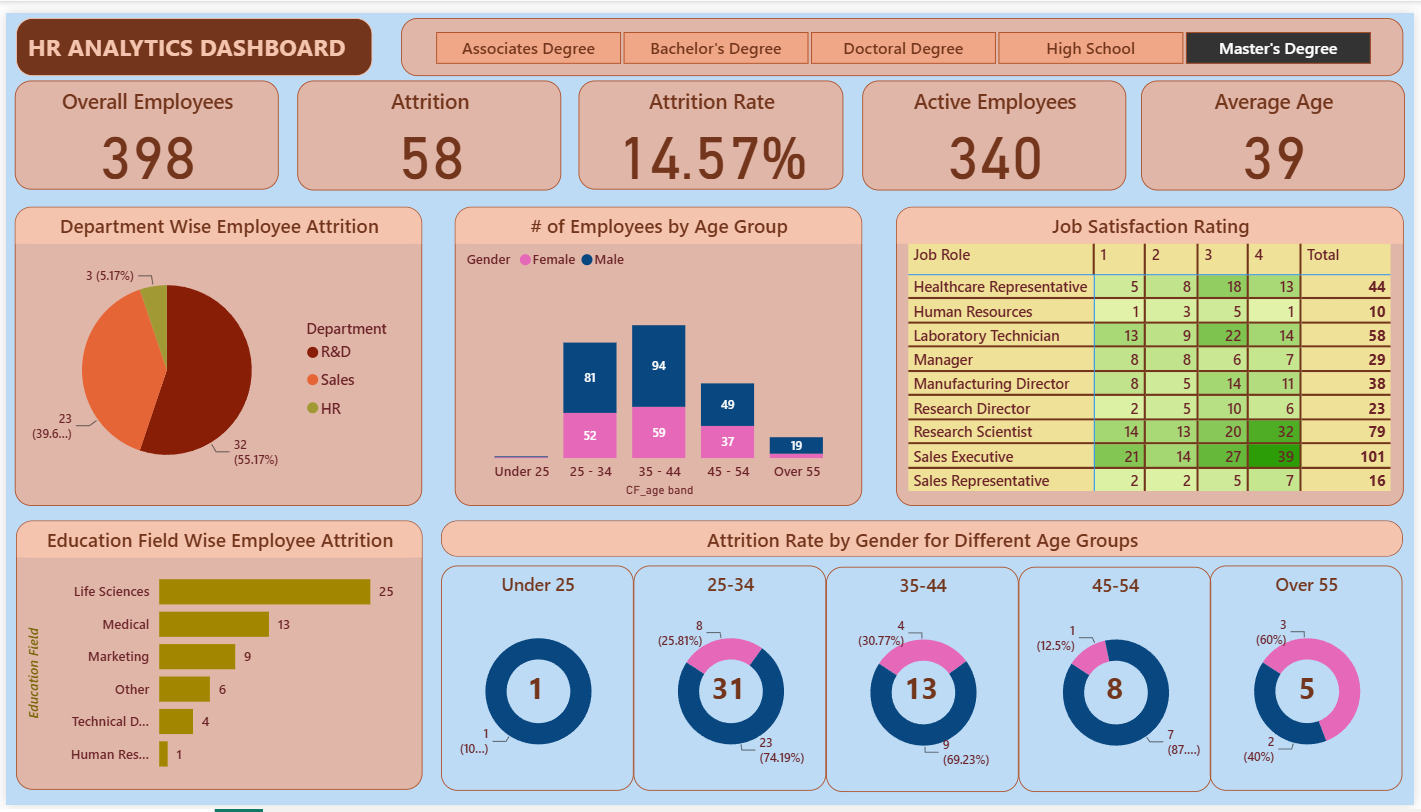

Layout of this report page (visuals, bound fields, positions):
{"tool":"powerbi","page":{"name":"HR Analytics Dashboard","canvas":[1280,720],"ordinal":0},"visuals":[{"type":"card","title":"Overall Employees","fields":{"Values":["Sum(HR data.Employee Count)"]},"box":[8.3,61.5,239.9,99.1],"z":0},{"type":"card","title":"Attrition ","fields":{"Values":["Sum(HR data.Attrition Count)"]},"box":[264.9,61.5,239.9,100.1],"z":1000},{"type":"card","title":"Attrition Rate","fields":{"Values":["HR data.Attrition Rate"]},"box":[520.4,61.5,240.9,99.1],"z":2000},{"type":"card","title":"Active Employees","fields":{"Values":["HR data.Active employees"]},"box":[778,61.5,239.9,100.1],"z":3000},{"type":"card","title":"Average Age","fields":{"Values":["Avg(HR data.Age)"]},"box":[1031.4,61.5,239.9,100.1],"z":4000},{"type":"pieChart","title":"Department Wise Employee Attrition","fields":{"Category":["HR data.Department"],"Y":["Sum(HR data.Attrition Count)"]},"box":[8.4,175.8,370.2,272.1],"z":5000},{"type":"columnChart","title":"# of Employees by Age Group","fields":{"Category":["HR data.CF_age band"],"Y":["Sum(HR data.Employee Count)"],"Series":["HR data.Gender"]},"box":[407.6,175.8,370.2,272.1],"z":6000},{"type":"pivotTable","title":"Job Satisfaction Rating","fields":{"Rows":["HR data.Job Role"],"Columns":["HR data.Job Satisfaction"],"Values":["Sum(HR data.Employee Count)"]},"box":[809.6,175.8,461.8,272.1],"z":7000},{"type":"barChart","title":"Education Field Wise Employee Attrition","fields":{"Category":["HR data.Education Field"],"Y":["Sum(HR data.Attrition Count)"]},"box":[9.3,461.8,369.3,244.9],"z":8000},{"type":"donutChart","title":"Under 25","fields":{"Category":["HR data.Gender"],"Y":["Sum(HR data.Attrition Count)"],"Series":["HR data.CF_age band"]},"box":[395.5,502,174.8,204.7],"z":9000},{"type":"textbox","title":"Attrition Rate by Gender for Different Age Groups","box":[395.5,461.8,874.1,32.7],"z":10000},{"type":"donutChart","title":"25-34","fields":{"Category":["HR data.Gender"],"Y":["Sum(HR data.Attrition Count)"],"Series":["HR data.CF_age band"]},"box":[570.3,502,174.8,204.7],"z":11000},{"type":"donutChart","title":"35-44","fields":{"Category":["HR data.Gender"],"Y":["Sum(HR data.Attrition Count)"],"Series":["HR data.CF_age band"]},"box":[745.1,503,174.8,204.7],"z":12000},{"type":"donutChart","title":"45-54","fields":{"Category":["HR data.Gender"],"Y":["Sum(HR data.Attrition Count)"],"Series":["HR data.CF_age band"]},"box":[919.9,503,174.8,204.7],"z":13000},{"type":"donutChart","title":"Over 55","fields":{"Category":["HR data.Gender"],"Y":["Sum(HR data.Attrition Count)"],"Series":["HR data.CF_age band"]},"box":[1094.8,502,174.8,204.7],"z":14000},{"type":"card","fields":{"Values":["Sum(HR data.Attrition Count)"]},"box":[459,597.4,45.8,33.7],"z":15000},{"type":"card","fields":{"Values":["Sum(HR data.Attrition Count)"]},"box":[628.8,597.5,57.4,33.4],"z":16000},{"type":"card","fields":{"Values":["Sum(HR data.Attrition Count)"]},"box":[806.1,597.5,53.2,33.4],"z":17000},{"type":"card","fields":{"Values":["Sum(HR data.Attrition Count)"]},"box":[985.4,597.4,45.8,33.7],"z":18000},{"type":"card","fields":{"Values":["Sum(HR data.Attrition Count)"]},"box":[1160.2,597.4,45.8,33.7],"z":19000},{"type":"textbox","box":[9.4,4.2,324.3,53.2],"z":20000},{"type":"slicer","fields":{"Values":["HR data.Education"]},"box":[358.7,4.2,911.4,53],"z":21000}]}

Visuals, with their boxes in screenshot pixels (x1, y1, x2, y2), scaled from the page's 1280x720 canvas onto the 1421x812 screenshot:
"Overall Employees" card: left=9, top=69, right=276, bottom=181
"Attrition " card: left=294, top=69, right=560, bottom=182
"Attrition Rate" card: left=578, top=69, right=845, bottom=181
"Active Employees" card: left=864, top=69, right=1130, bottom=182
"Average Age" card: left=1145, top=69, right=1411, bottom=182
"Department Wise Employee Attrition" pieChart: left=9, top=198, right=420, bottom=505
"# of Employees by Age Group" columnChart: left=452, top=198, right=863, bottom=505
"Job Satisfaction Rating" pivotTable: left=899, top=198, right=1411, bottom=505
"Education Field Wise Employee Attrition" barChart: left=10, top=521, right=420, bottom=797
"Under 25" donutChart: left=439, top=566, right=633, bottom=797
"Attrition Rate by Gender for Different Age Groups" textbox: left=439, top=521, right=1409, bottom=558
"25-34" donutChart: left=633, top=566, right=827, bottom=797
"35-44" donutChart: left=827, top=567, right=1021, bottom=798
"45-54" donutChart: left=1021, top=567, right=1215, bottom=798
"Over 55" donutChart: left=1215, top=566, right=1409, bottom=797
card - Sum(HR data.Attrition Count): left=510, top=674, right=560, bottom=712
card - Sum(HR data.Attrition Count): left=698, top=674, right=762, bottom=712
card - Sum(HR data.Attrition Count): left=895, top=674, right=954, bottom=712
card - Sum(HR data.Attrition Count): left=1094, top=674, right=1145, bottom=712
card - Sum(HR data.Attrition Count): left=1288, top=674, right=1339, bottom=712
textbox: left=10, top=5, right=370, bottom=65
slicer - HR data.Education: left=398, top=5, right=1410, bottom=65
